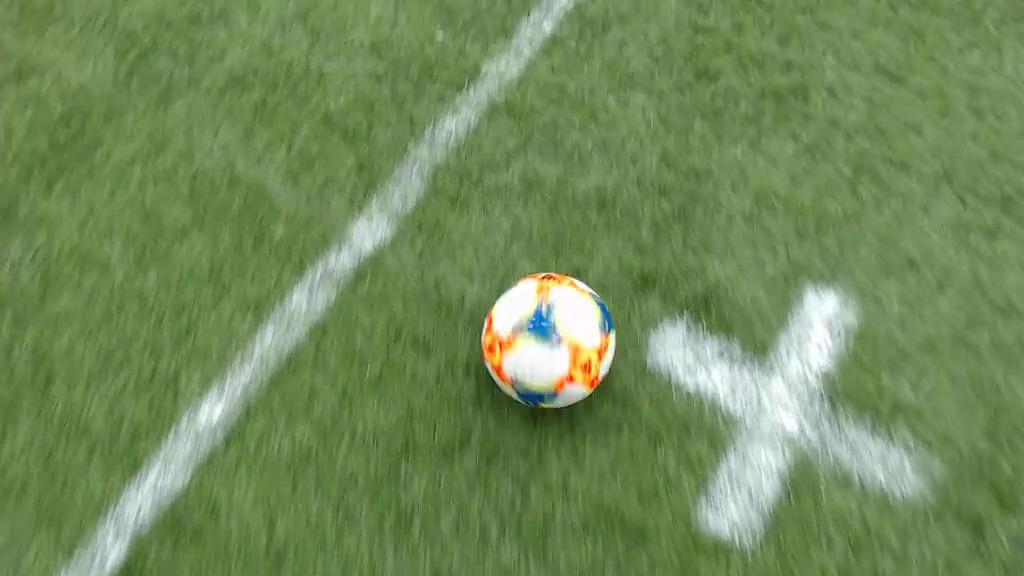ball: (483, 272, 614, 409)
